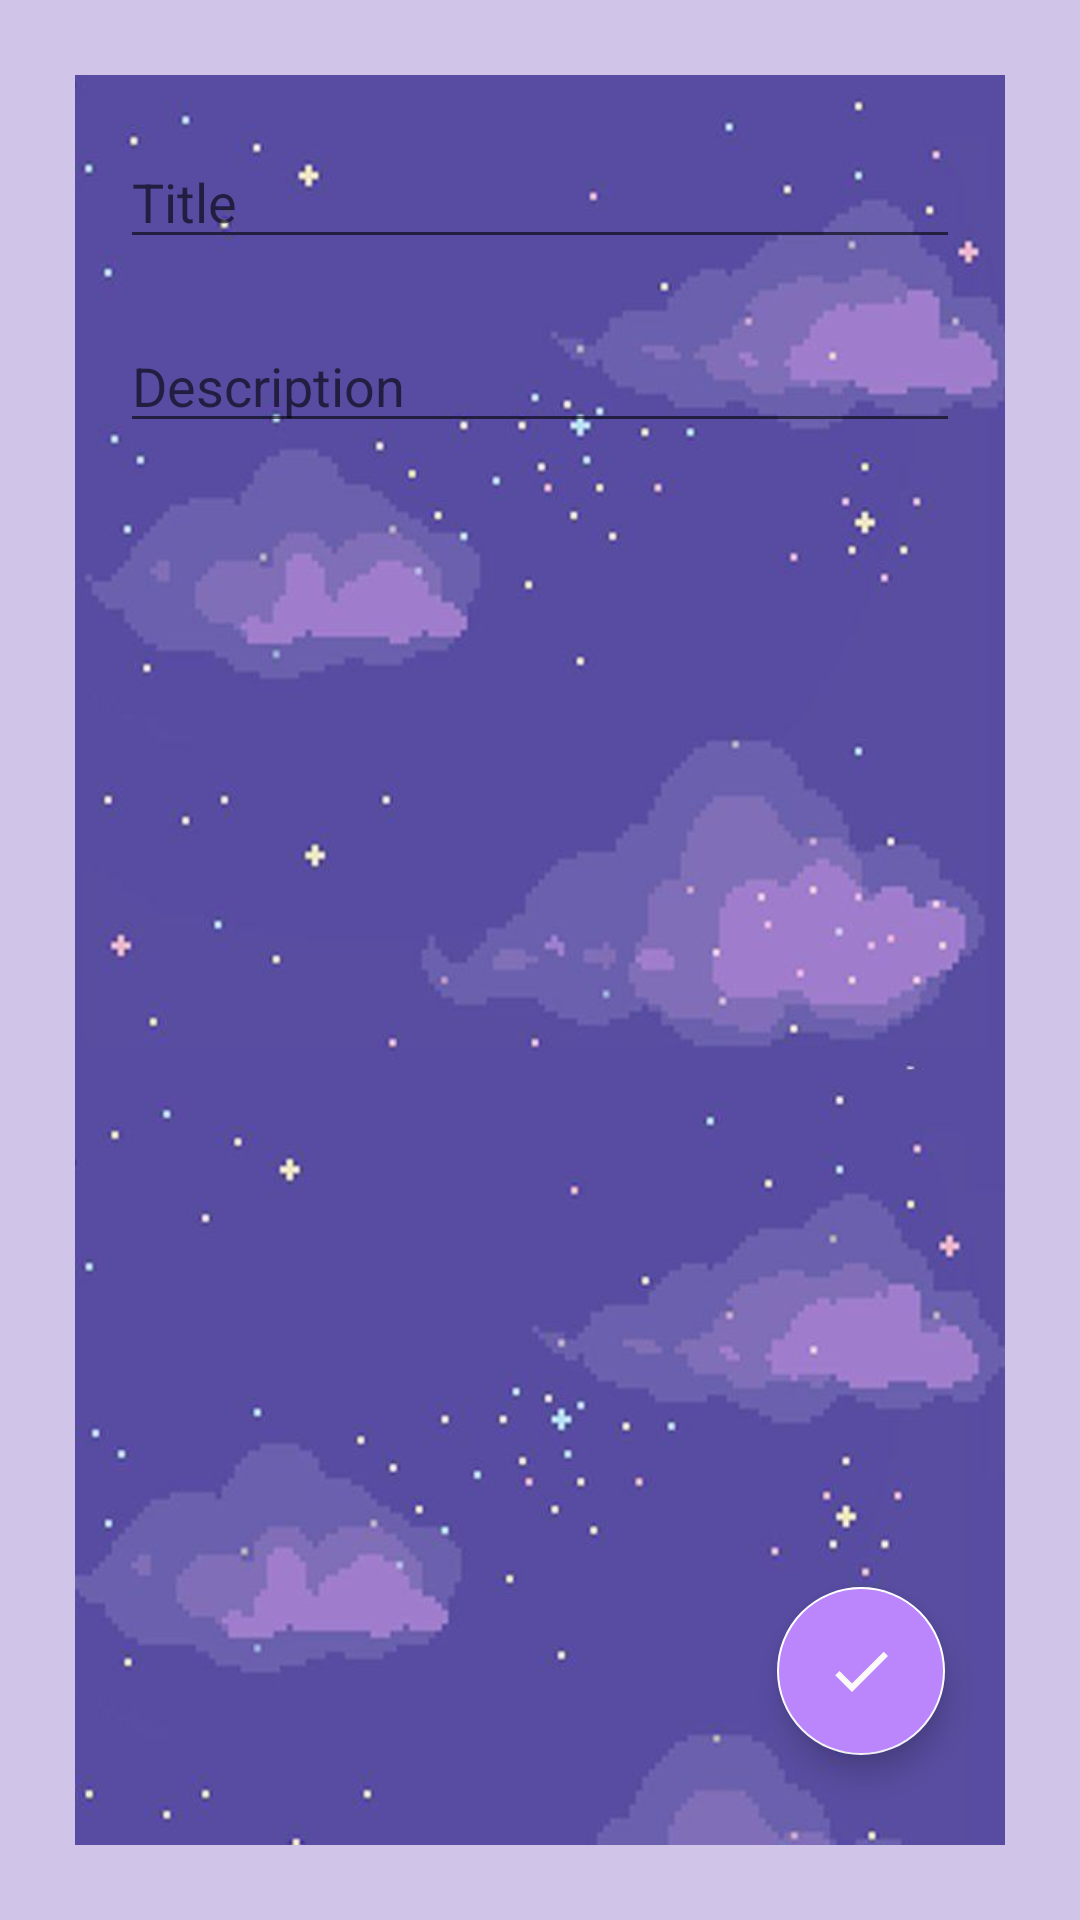

Where icons sit on this 1080px x 1920px app screen, as (x1, y1, x2, y2):
check: (777, 1587, 945, 1755)
